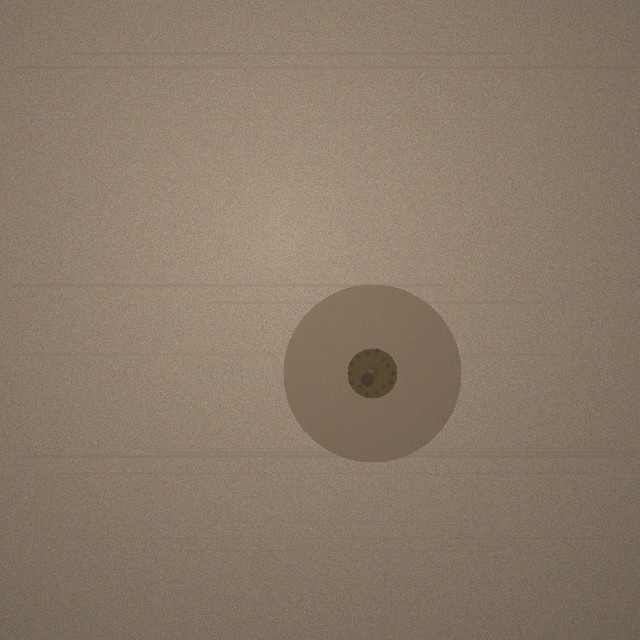cold_weld: (283, 284, 461, 462)
